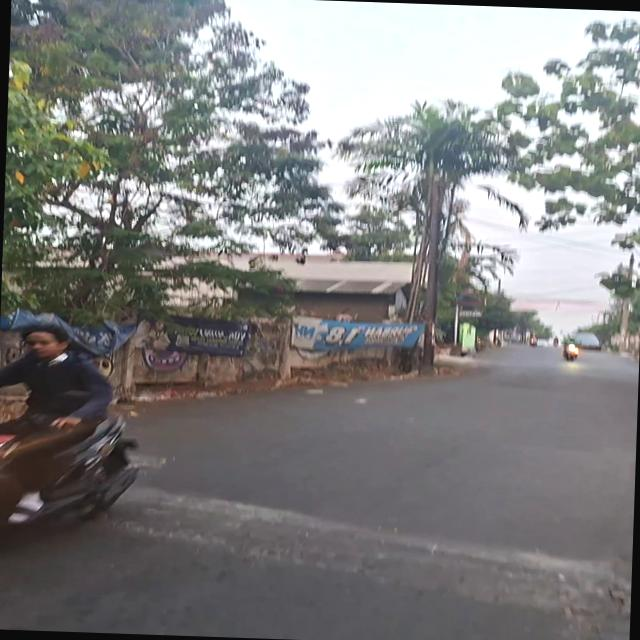WithHelmet: (561, 337, 578, 359)
WithoutHelmet: (0, 322, 141, 555)
